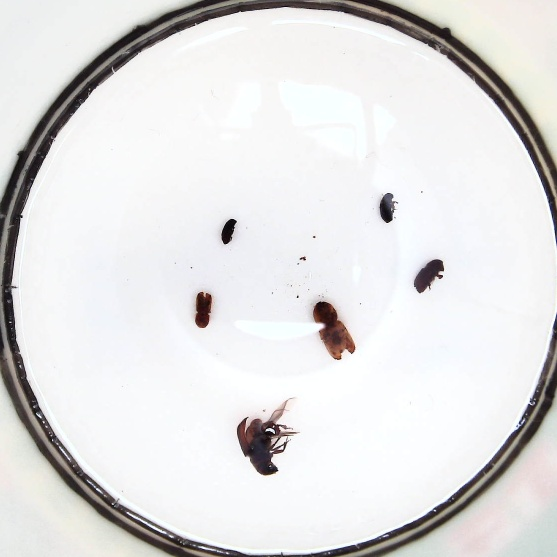acuminatus: (221, 219, 236, 244)
armandi: (195, 291, 211, 328)
boerner: (313, 301, 355, 360), (414, 260, 444, 293)
coleoptera: (379, 193, 394, 223)
leconte: (237, 417, 291, 475)
